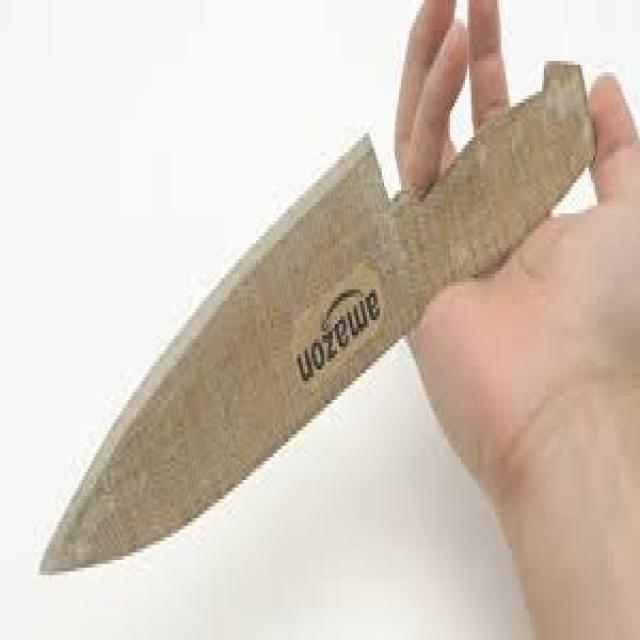knives: (37, 53, 600, 583)
